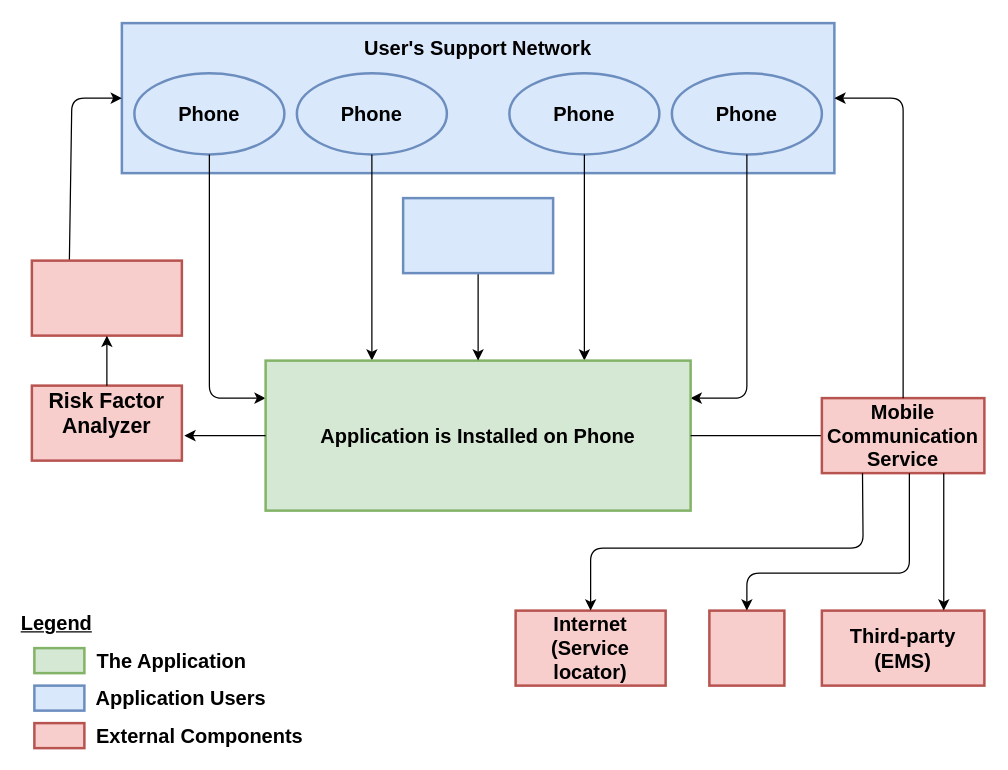
Some shapes in this 1008 by 770 pixel diagram are drawn without their labels. Here are the shapes that lost their labels. From the top down, the box of each, then its label:
(401, 196, 554, 274): User (at risk)
(30, 259, 182, 336): Database
(708, 609, 785, 686): GPS
